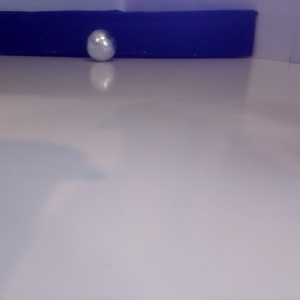zone: (1, 9, 257, 58)
